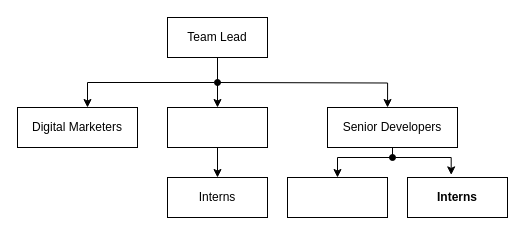
Image size: 525x235. Some labels were removed from this diagram. Here are the shapes that lost their labels. From the top down, the centre of each, then its label:
At [217,127]: "Designers".
At [337,197]: "Developers".
